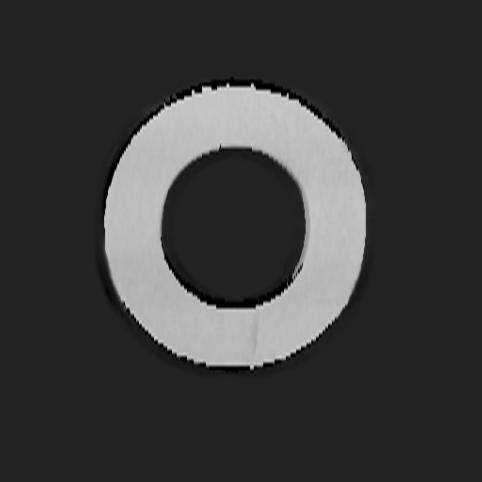defect: (250, 311, 260, 360)
